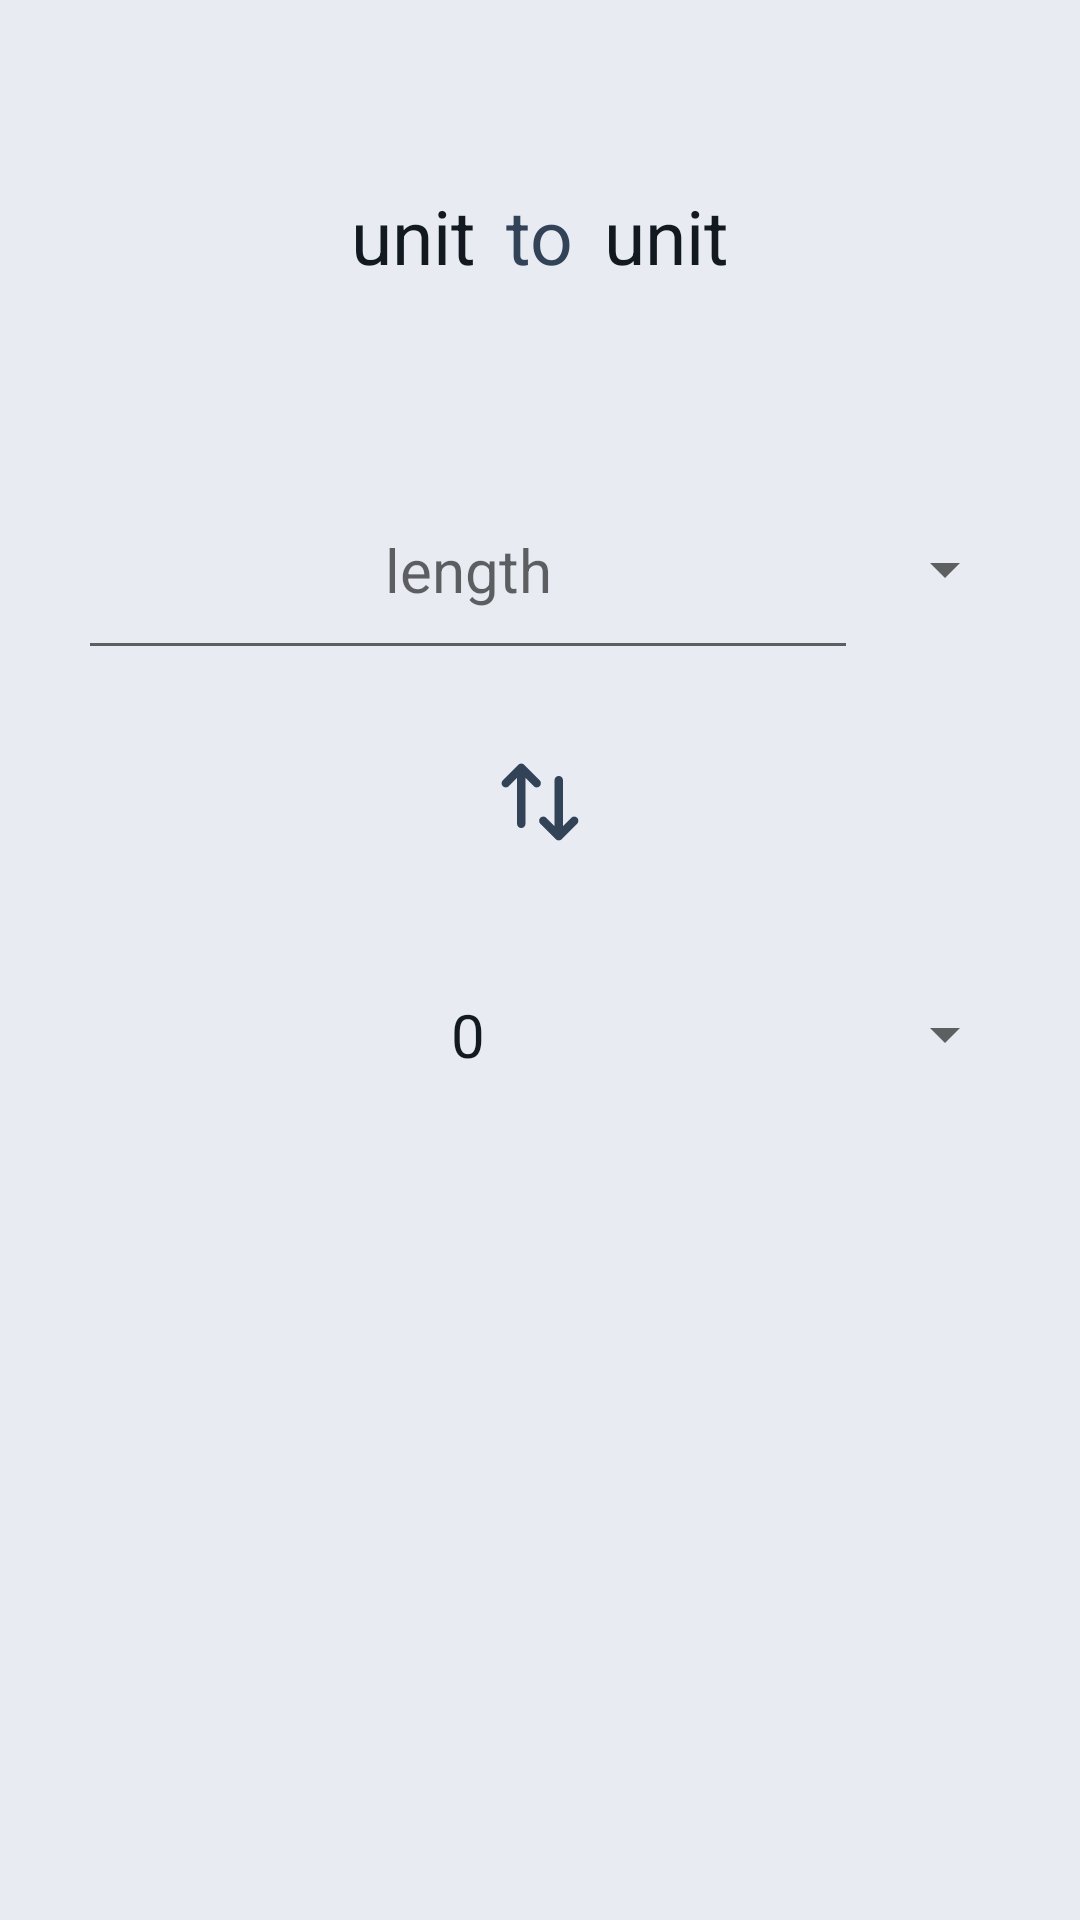

Screen size 1080x1920. Icon name, then its center in pixels as (x=x, y=y):
Swap units: (x=540, y=802)
